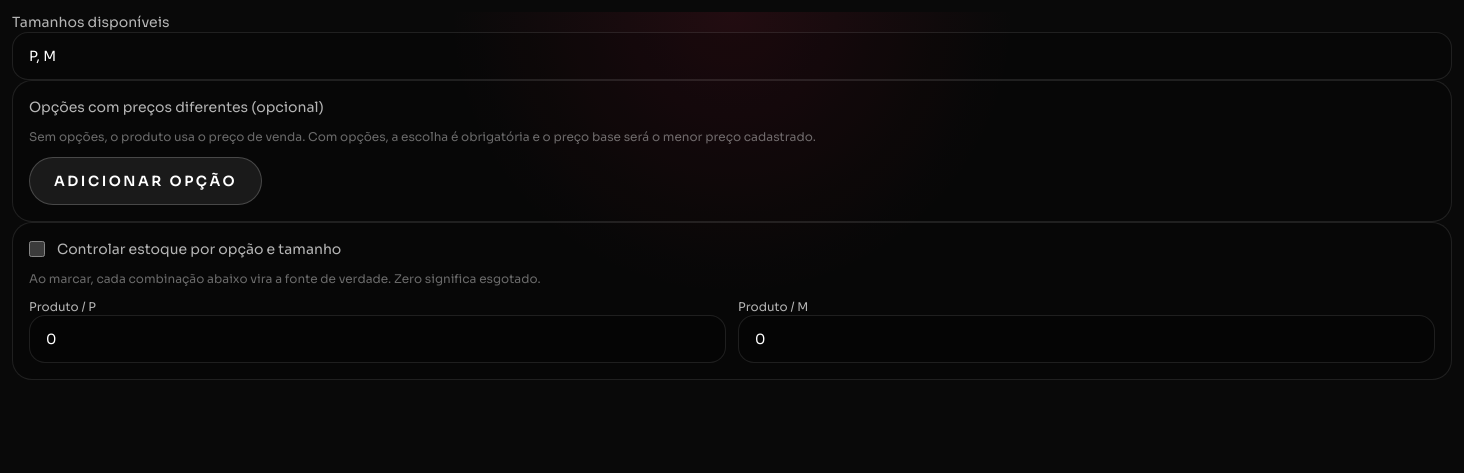
it: admin adds, edits and removes price options, with matching inventory fields
Click the button "Adicionar opção": {"x": 146, "y": 181} [29,157,262,205]
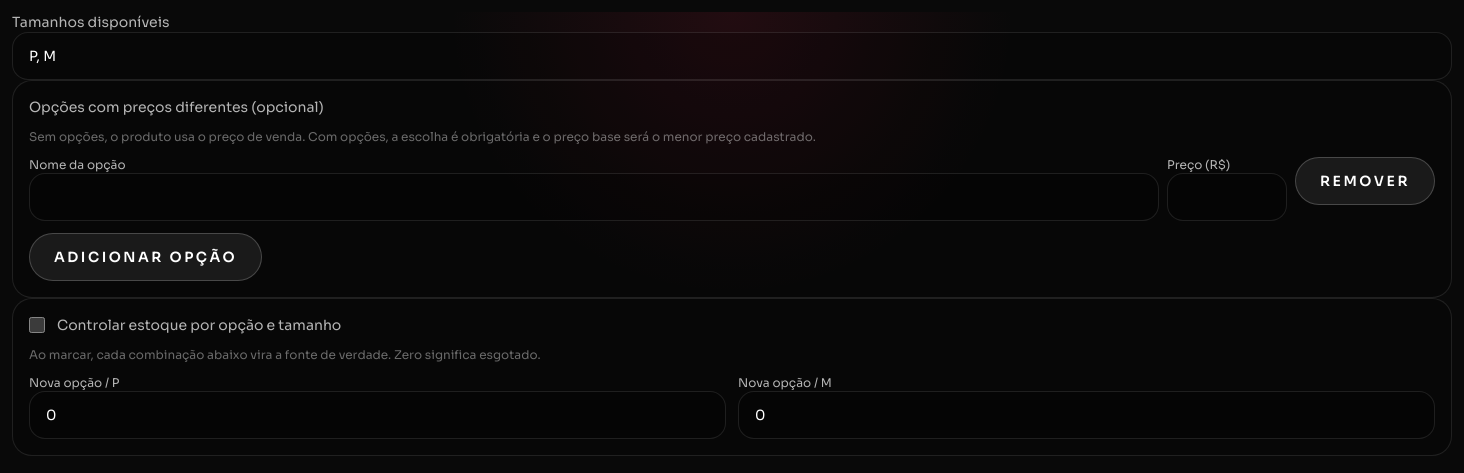
In the field named "Nome da opção 1": {"x": 594, "y": 197} [29,173,1159,221], type "Regata"
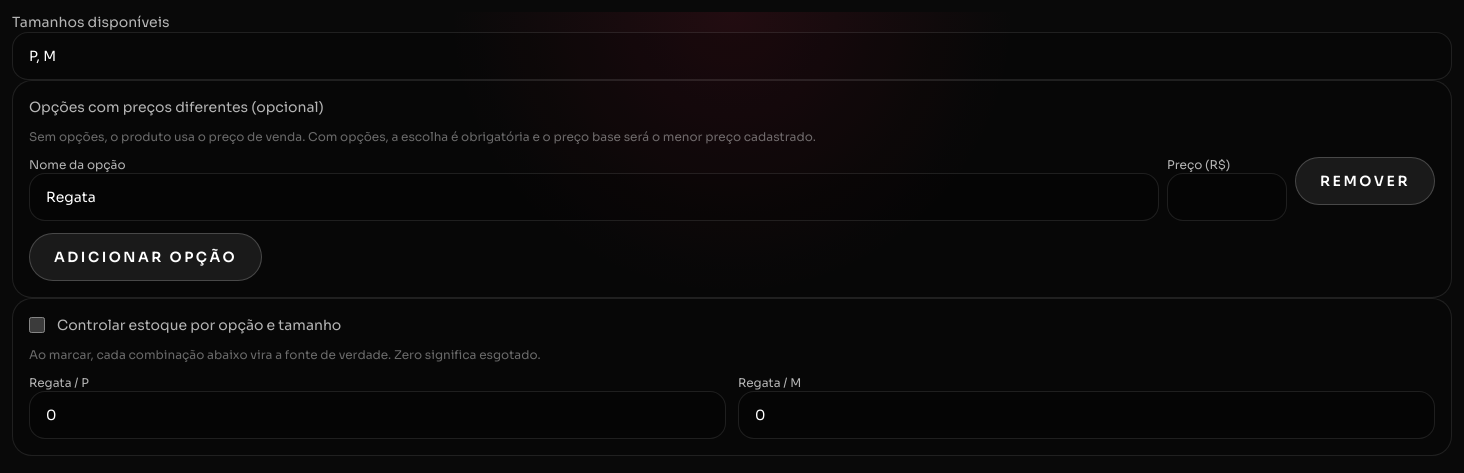
In the field named "Preço da opção 1": {"x": 1227, "y": 197} [1167,173,1287,221], type "80,25"
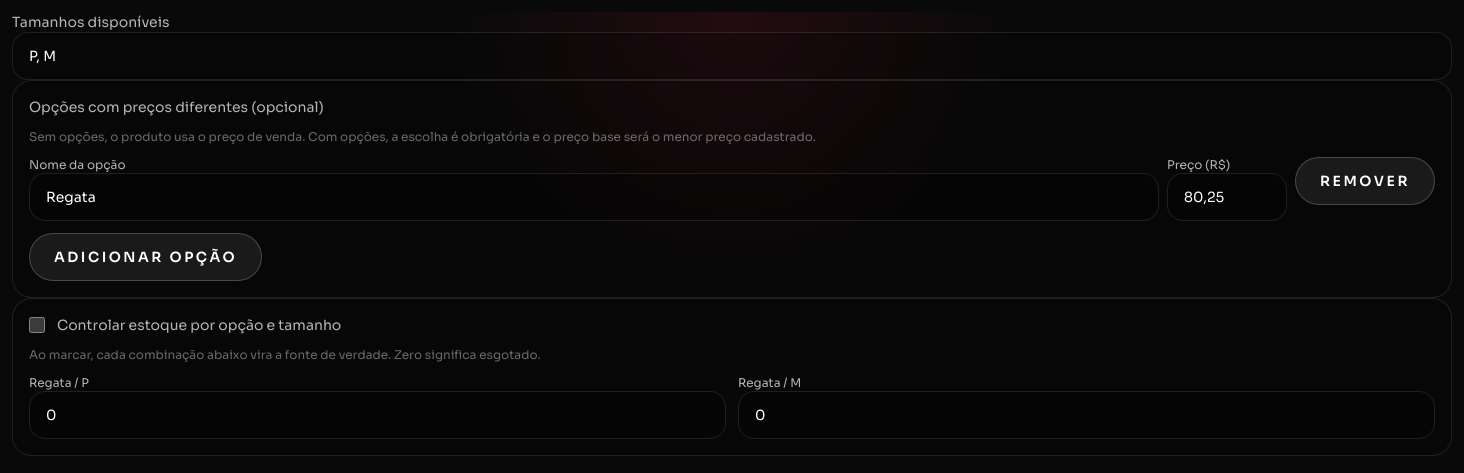
Expected: the number field named "Estoque Regata / M" is shown, [738,391,1435,439]
Click the button with aria-label "Remover opção 1": {"x": 1365, "y": 181} [1295,157,1435,205]
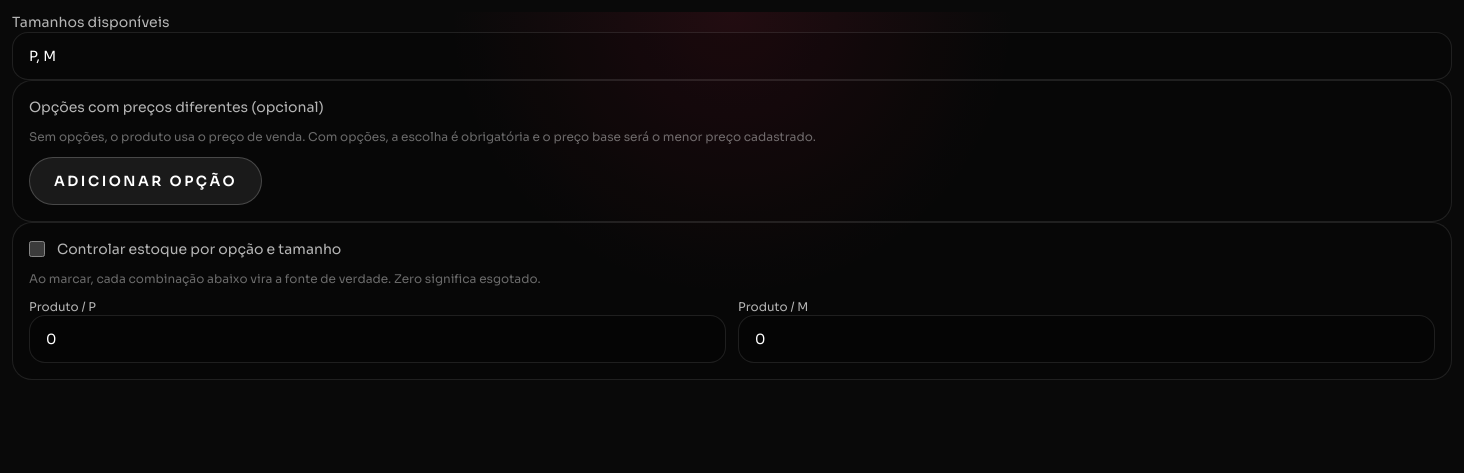
Expected: the number field named "Estoque Produto / M" is shown, [738,315,1435,363]
